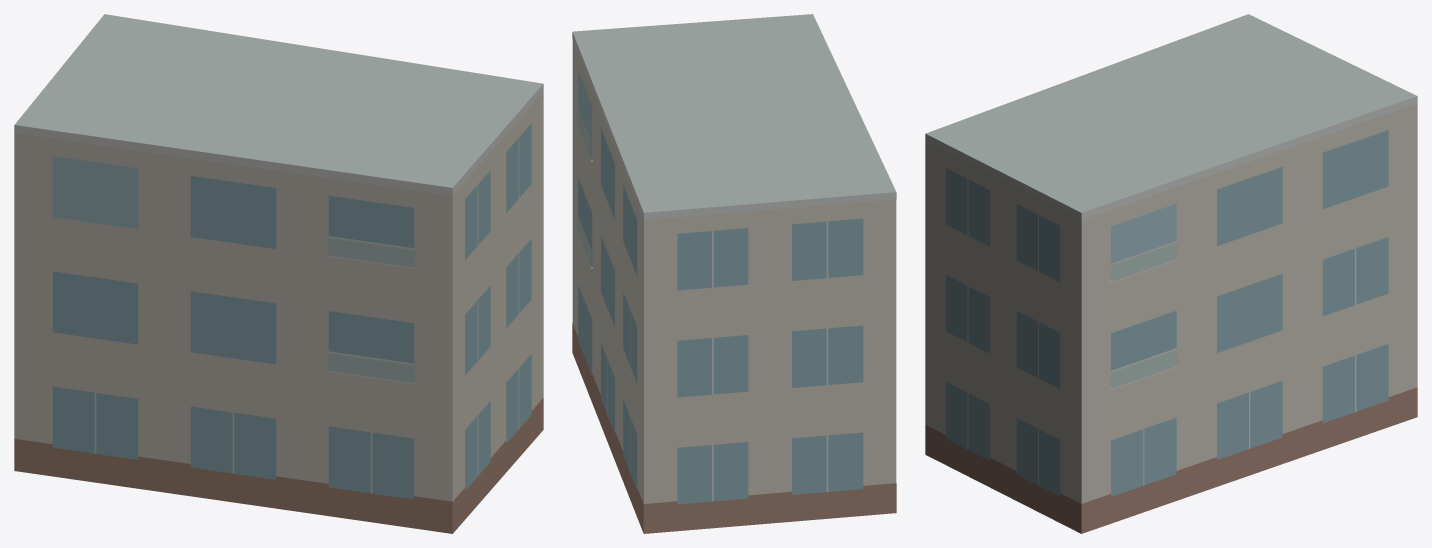
The model's file is survey-upis-32630990.glb.
3 renders of one model, left to right at view 1: azimuth 30°, elevation 25°; view 2: azimuth 150°, elevation 25°; view 3: azimuth 270°, elevation 25°, orthographic. The views are drawn at different scales.
Visible parts, largest first — view 1: survey-upis-32630990.tmp; view 2: survey-upis-32630990.tmp; view 3: survey-upis-32630990.tmp.
Part boxes in pixels (x1,y1,x2,y2): survey-upis-32630990.tmp: (14, 14, 543, 533); survey-upis-32630990.tmp: (572, 14, 896, 533); survey-upis-32630990.tmp: (925, 14, 1417, 533).
Size of the model in its own units: 13.96 by 10.5 by 14.6.
